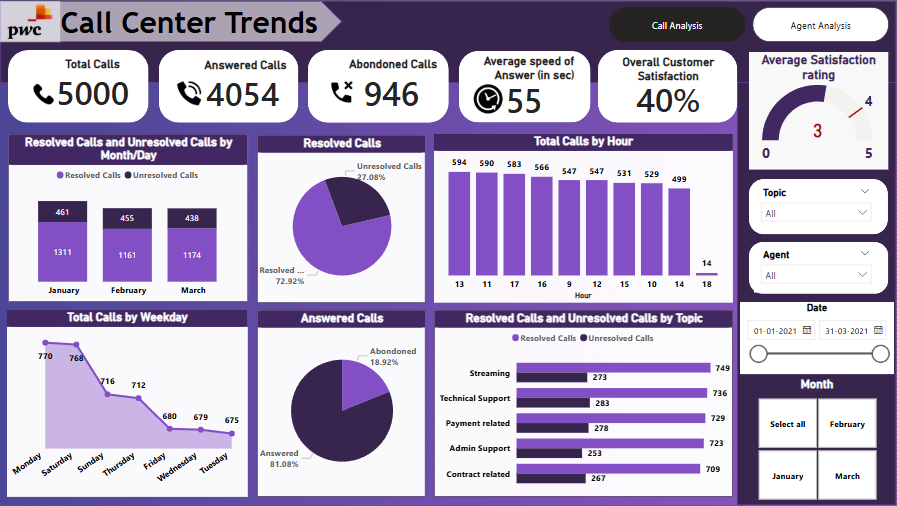

Layout of this report page (visuals, bound fields, positions):
{"tool":"powerbi","page":{"name":"Call Analysis","canvas":[1280,720],"ordinal":0},"visuals":[{"type":"shape","box":[1053.5,0,226.5,720.1],"z":0},{"type":"shape","box":[0,0,1280,117.1],"z":1000},{"type":"shape","box":[854.4,69.6,199,103.6],"z":2000},{"type":"shape","box":[440.2,69.6,200.7,103.6],"z":3000},{"type":"shape","box":[655.4,71.2,187.7,101.9],"z":4000},{"type":"shape","box":[226.5,69.6,199,103.6],"z":5000},{"type":"card","title":"Abondoned Calls","fields":{"Values":["Sheet1.Abondoned Calls"]},"box":[488.7,79.3,140.8,80.9],"z":6000},{"type":"card","title":"Answered Calls","fields":{"Values":["Sheet1.Answered Calls"]},"box":[279.9,80.9,134.3,79.3],"z":7000},{"type":"card","title":"Average speed of Answer (in sec)","fields":{"Values":["Avg(Sheet1.Speed of answer in seconds)"]},"box":[673.2,76.1,152.1,92.2],"z":8000},{"type":"card","title":"Overall Customer Satisfaction","fields":{"Values":["Sheet1.Overall customer satisfaction"]},"box":[865.7,77.7,178,87.4],"z":9000},{"type":"pieChart","title":" Answered Calls","fields":{"Y":["Sheet1.Abondoned Calls","Sheet1.Answered Calls"]},"box":[367.1,441.4,241.4,267.1],"z":10000},{"type":"pieChart","title":"Resolved Calls","fields":{"Y":["Sheet1.Resolved Calls","Sheet1.Unresolved Calls"]},"box":[367.1,191.4,241.4,240],"z":11000},{"type":"columnChart","title":"Resolved Calls and Unresolved Calls by Month/Day","fields":{"Category":["Sheet1.Date.Variation.Date Hierarchy.Month","Sheet1.Date.Variation.Date Hierarchy.Day"],"Y":["Sheet1.Resolved Calls","Sheet1.Unresolved Calls"]},"box":[11.4,190,342.9,240],"z":12000},{"type":"gauge","title":"Average Satisfaction rating","fields":{"Y":["Avg(Sheet1.Satisfaction rating)"]},"box":[1069.6,72.8,199,168.3],"z":13000},{"type":"slicer","title":"Month","fields":{"Values":["Sheet1.Date.Variation.Date Hierarchy.Month"]},"box":[1060,537.1,214.3,182.9],"z":14000},{"type":"shape","box":[1069.6,254.1,199,79.3],"z":15000},{"type":"shape","box":[1069.6,344.7,199,74.4],"z":16000},{"type":"slicer","fields":{"Values":["Sheet1.Agent"]},"box":[1077.7,347.9,178,68],"z":17000},{"type":"slicer","fields":{"Values":["Sheet1.Topic"]},"box":[1077.7,260.5,178,68],"z":18000},{"type":"slicer","title":"Date","fields":{"Values":["Sheet1.Date"]},"box":[1057.1,430,220,102.9],"z":19000},{"type":"clusteredColumnChart","fields":{"Category":["Sheet1.Hour"],"Y":["Sheet1.Total Calls"]},"box":[620,190,427.1,241.4],"z":20000},{"type":"areaChart","fields":{"Category":["Sheet1.Weekday"],"Y":["Sheet1.Total Calls"]},"box":[10,441.4,344.3,267.1],"z":21000},{"type":"clusteredBarChart","title":"Resolved Calls and Unresolved Calls by Topic","fields":{"Category":["Sheet1.Topic"],"Y":["Sheet1.Resolved Calls","Sheet1.Unresolved Calls"]},"box":[620,441.4,427.1,267.1],"z":22000},{"type":"shape","box":[11.4,70,201.4,104.3],"z":23000},{"type":"card","title":"Total Calls","fields":{"Values":["Sheet1.Total Calls"]},"box":[65.7,80,132.9,81.4],"z":24000},{"type":"shape","box":[0,0,488.6,58.6],"z":25000},{"type":"image","box":[0,0,85.7,58.6],"z":26000},{"type":"textbox","box":[81.4,0,458.6,72.9],"z":27000},{"type":"pageNavigator","box":[870,8.6,400,50],"z":28000},{"type":"image","box":[42.9,108.6,38.6,48.6],"z":29000},{"type":"image","box":[244.3,110,52.9,44.3],"z":30000},{"type":"image","box":[464.3,110,48.6,40],"z":31000},{"type":"image","box":[655.7,110,82.9,58.6],"z":32000}]}

Visuals, with their boxes in screenshot pixels (x1, y1, x2, y2), scaled from the page's 1280x720 canvas onto the 897x506 screenshot:
shape: Rect(738, 0, 896, 505)
shape: Rect(0, 0, 896, 82)
shape: Rect(599, 49, 738, 122)
shape: Rect(308, 49, 449, 122)
shape: Rect(459, 50, 591, 122)
shape: Rect(159, 49, 298, 122)
"Abondoned Calls" card: Rect(342, 56, 441, 113)
"Answered Calls" card: Rect(196, 57, 290, 113)
"Average speed of Answer (in sec)" card: Rect(472, 53, 578, 118)
"Overall Customer Satisfaction" card: Rect(607, 55, 731, 116)
" Answered Calls" pieChart: Rect(257, 310, 426, 498)
"Resolved Calls" pieChart: Rect(257, 135, 426, 303)
"Resolved Calls and Unresolved Calls by Month/Day" columnChart: Rect(8, 134, 248, 302)
"Average Satisfaction rating" gauge: Rect(750, 51, 889, 169)
"Month" slicer: Rect(743, 377, 893, 505)
shape: Rect(750, 179, 889, 234)
shape: Rect(750, 242, 889, 295)
slicer - Sheet1.Agent: Rect(755, 244, 880, 292)
slicer - Sheet1.Topic: Rect(755, 183, 880, 231)
"Date" slicer: Rect(741, 302, 895, 375)
clusteredColumnChart - Sheet1.Hour x Sheet1.Total Calls: Rect(434, 134, 734, 303)
areaChart - Sheet1.Weekday x Sheet1.Total Calls: Rect(7, 310, 248, 498)
"Resolved Calls and Unresolved Calls by Topic" clusteredBarChart: Rect(434, 310, 734, 498)
shape: Rect(8, 49, 149, 122)
"Total Calls" card: Rect(46, 56, 139, 113)
shape: Rect(0, 0, 342, 41)
image: Rect(0, 0, 60, 41)
textbox: Rect(57, 0, 378, 51)
pageNavigator: Rect(610, 6, 890, 41)
image: Rect(30, 76, 57, 110)
image: Rect(171, 77, 208, 108)
image: Rect(325, 77, 359, 105)
image: Rect(460, 77, 518, 118)
